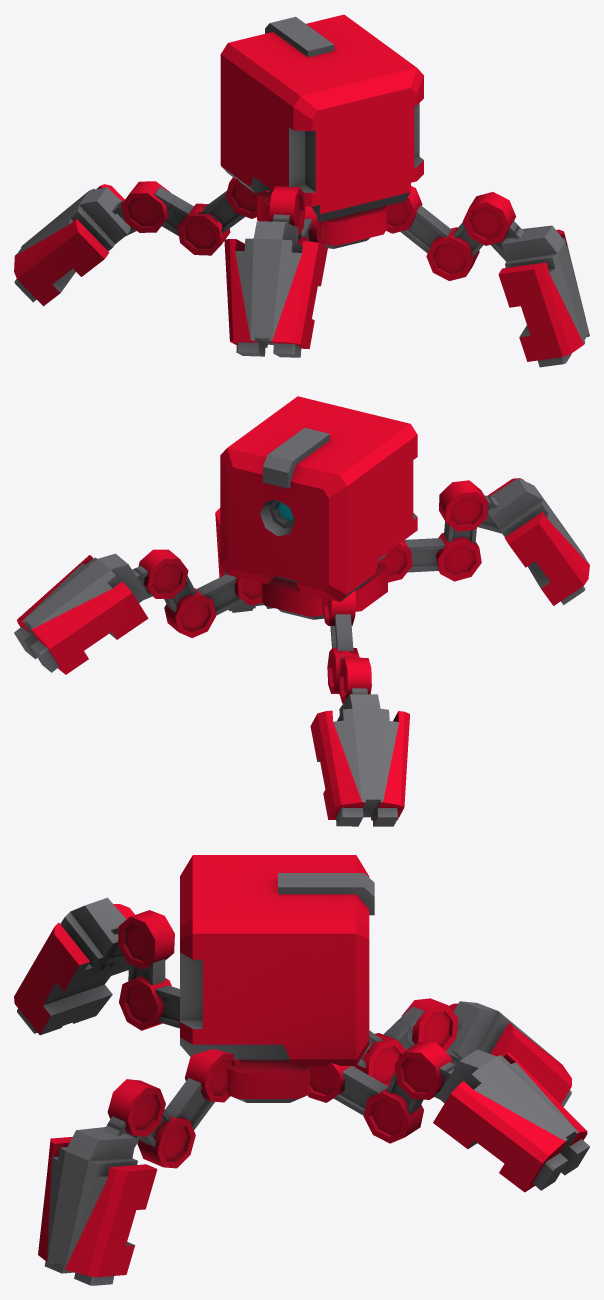
File: Monster1_Move15.obj
3 renders of one model, top to bottom at view 1: azimuth 30°, elevation 25°; view 2: azimuth 150°, elevation 25°; view 3: azimuth 270°, elevation 25°, orthographic. The views are drawn at different scales.
Parts seen in each view (by area): view 1: Box006, Object021, Object017, Object025, Object027, Object020, Object018, Object019, Object028, Object026, Object024, Object022; view 2: Box006, Object025, Object013, Object021, Object024, Object016, Object015, Object023, Object022, Object014, Object026, Object028 (+1 smaller); view 3: Box006, Object017, Object013, Object021, Object025, Object018, Object024, Object020, Object016, Object015, Object023, Object014 (+4 smaller).
Boxes of the visible parts, x1,y1,x2,y2 form: Box006: (220,14,423,248); Object021: (224,221,327,357); Object017: (498,225,589,367); Object025: (14,184,130,306); Object027: (154,186,230,255); Object020: (462,192,523,261); Object018: (386,186,451,253); Object019: (426,222,483,280); Object028: (112,181,170,236); Object026: (200,177,270,233); Object024: (269,186,305,235); Object022: (301,206,325,244); Box006: (220,396,417,619); Object025: (310,694,409,826); Object013: (14,553,148,674); Object021: (487,478,589,605); Object024: (439,480,501,533); Object016: (132,549,188,599); Object015: (164,576,216,637); Object023: (436,521,481,581); Object022: (377,538,445,582); Object014: (196,574,262,615); Object026: (323,590,355,651); Object028: (339,657,371,703); Box006: (180,855,374,1102); Object017: (38,1127,157,1285); Object013: (433,1049,589,1192); Object021: (14,897,134,1035); Object025: (448,1001,571,1106); Object018: (165,1049,240,1129); Object024: (104,910,174,969); Object020: (104,1079,165,1147); Object016: (394,1042,456,1099); Object015: (363,1072,423,1143); Object023: (119,959,171,1030); Object014: (306,1063,387,1115).
Bounding box in the file's own units: 157 × 111 × 179.
